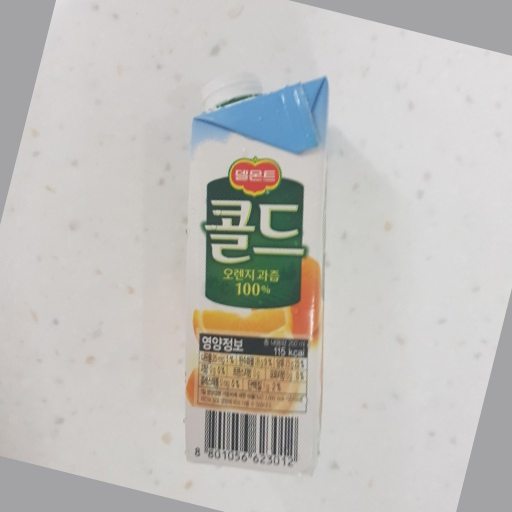Paper_0: (182, 73, 338, 493)
